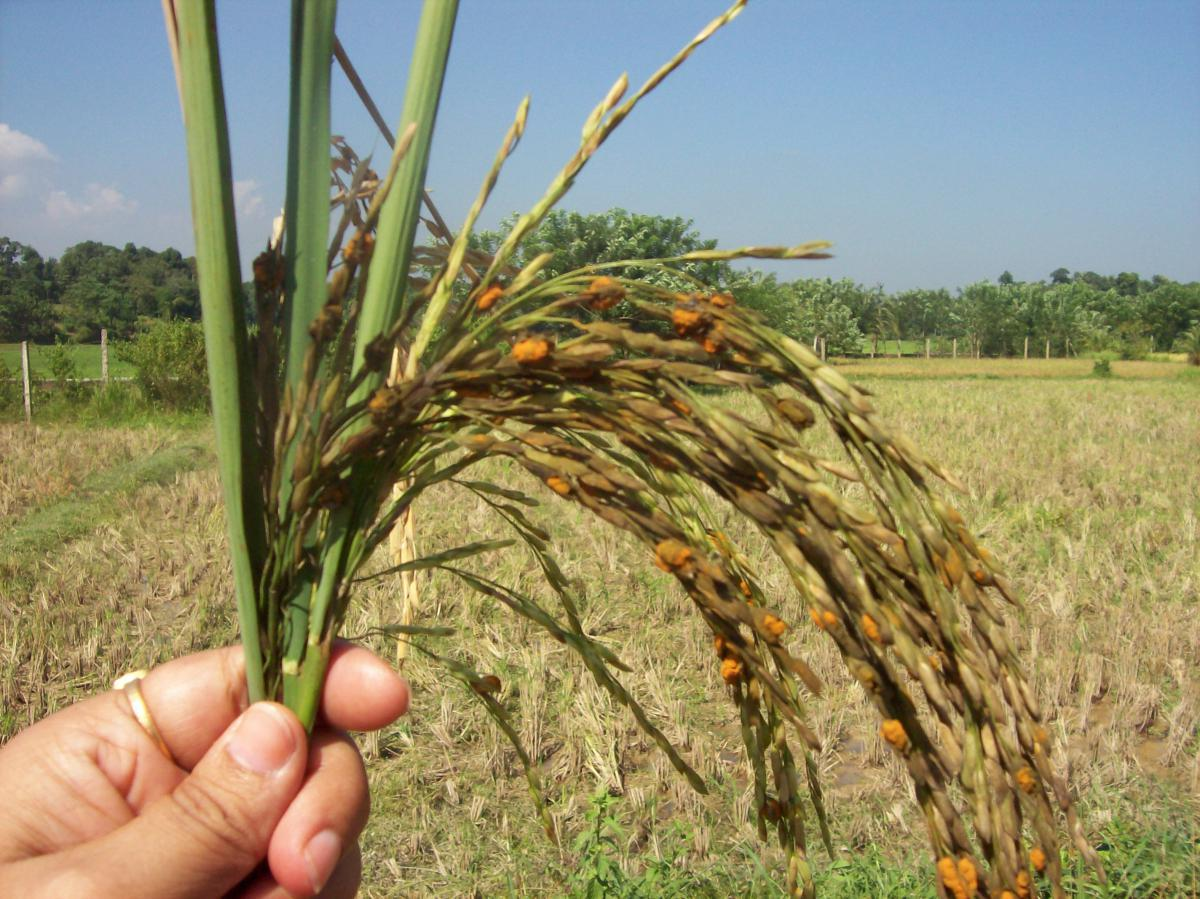False Smut: (671, 291, 734, 355), (772, 389, 818, 440), (874, 708, 914, 764), (935, 856, 986, 899), (709, 629, 746, 685), (653, 533, 694, 582), (750, 605, 790, 649), (366, 383, 401, 428), (588, 268, 619, 318), (305, 306, 343, 344), (359, 332, 389, 377), (801, 605, 845, 635), (662, 389, 697, 425), (339, 231, 372, 266), (253, 256, 285, 292), (312, 480, 349, 511), (857, 613, 884, 651), (541, 466, 573, 496), (514, 339, 552, 363), (1014, 757, 1035, 794), (972, 564, 997, 595), (761, 796, 787, 825), (477, 285, 502, 315), (1014, 869, 1039, 899), (735, 572, 755, 607), (1033, 848, 1048, 883), (996, 888, 1023, 899)
